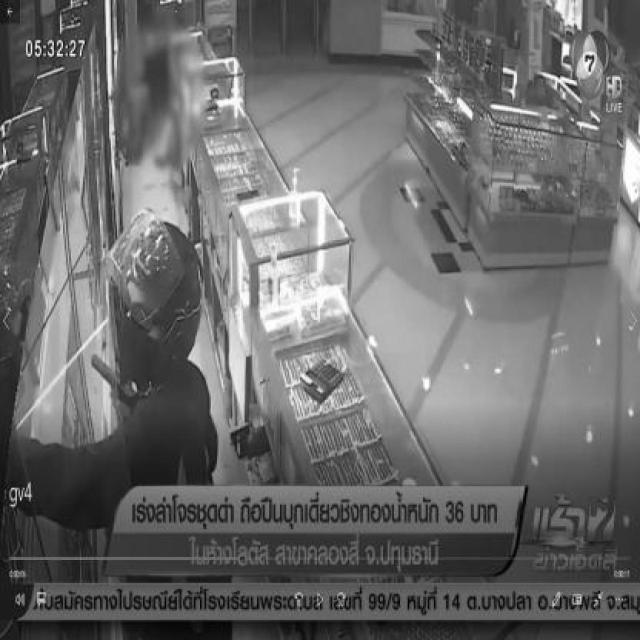weapon: (90, 354, 135, 402)
